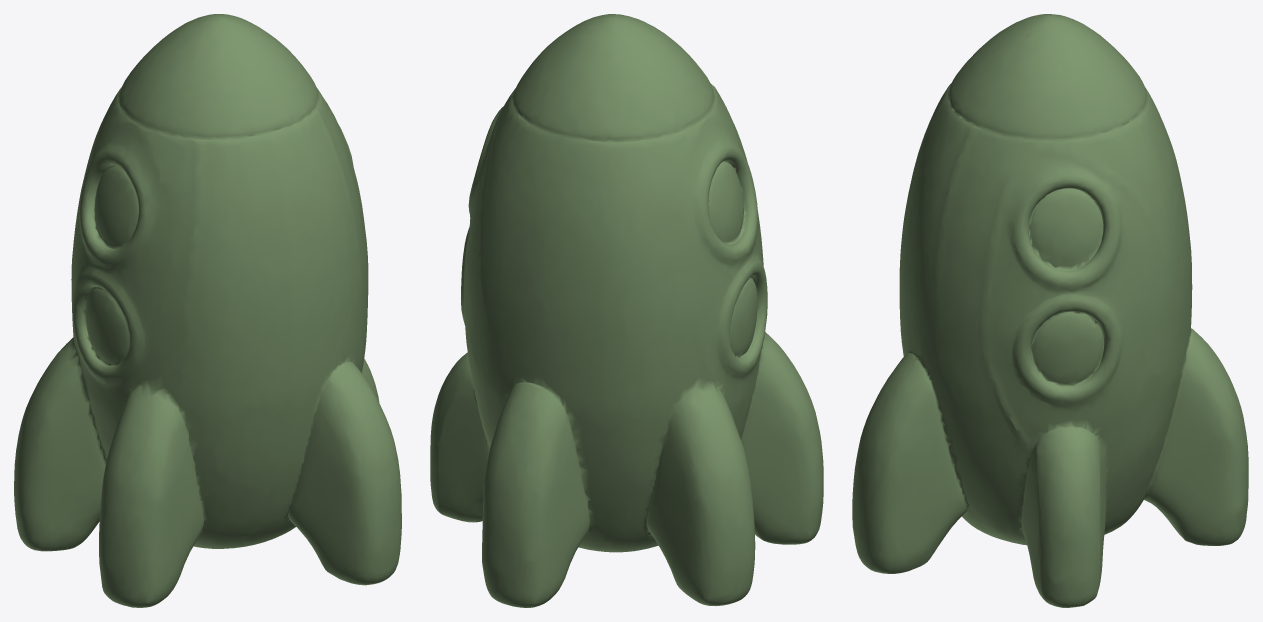
Rendered from pocket-rocket.glb.
3 renders of one model, left to right at view 1: azimuth 30°, elevation 25°; view 2: azimuth 150°, elevation 25°; view 3: azimuth 270°, elevation 25°, orthographic.
Parts seen in each view (by area): view 1: tripo_printable_source; view 2: tripo_printable_source; view 3: tripo_printable_source.
Boxes of the visible parts, left/top/right/bottom form: tripo_printable_source: left=14, top=14, right=401, bottom=607; tripo_printable_source: left=430, top=14, right=823, bottom=607; tripo_printable_source: left=852, top=14, right=1248, bottom=607.
Size of the model in its own units: 68.37 by 100 by 70.
